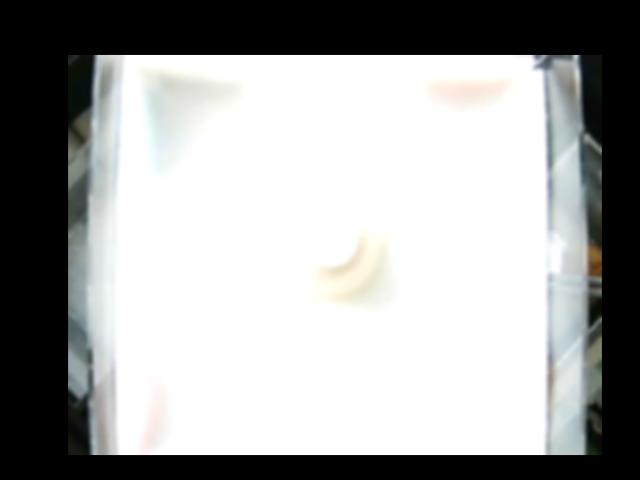Cup: (269, 182, 383, 296)
